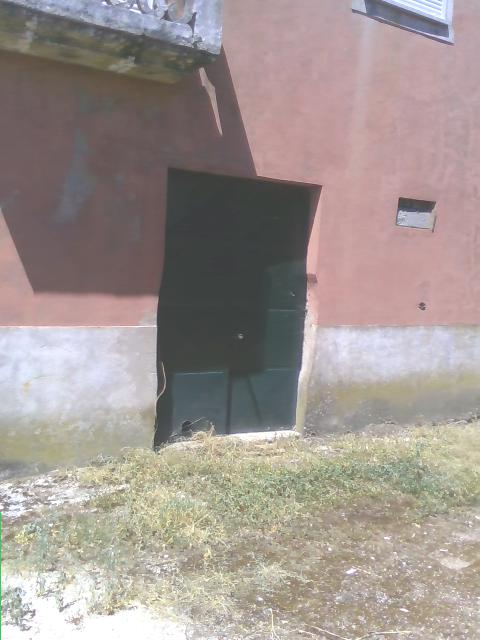closed_door: (149, 157, 323, 447)
